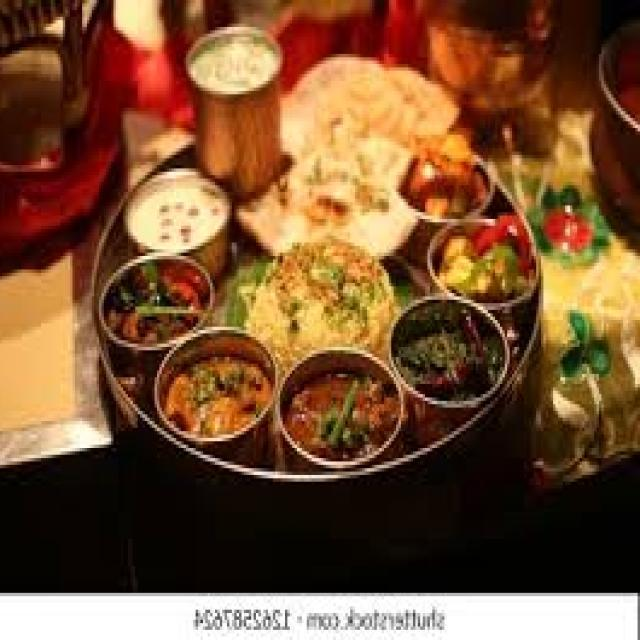rice: (248, 229, 400, 365)
roti: (283, 57, 431, 257)
sweet: (101, 251, 213, 363), (428, 207, 536, 315), (394, 129, 500, 235), (119, 168, 231, 260), (597, 13, 639, 149)
veg-fry: (277, 338, 413, 482), (154, 326, 272, 461), (96, 251, 217, 361)
